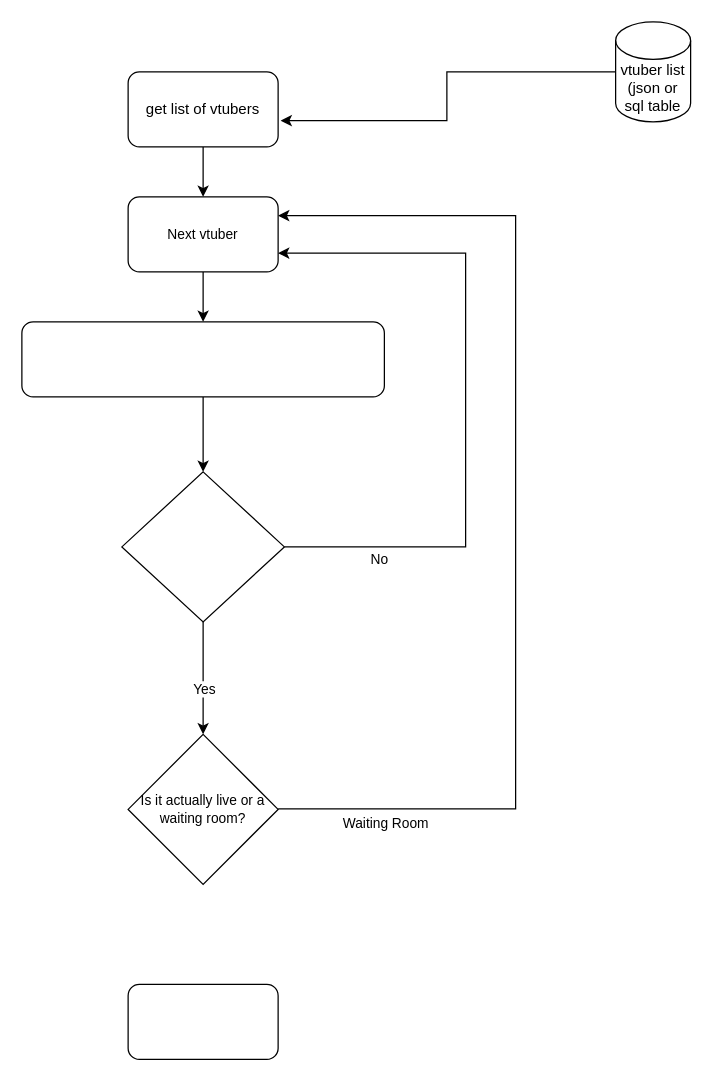
Image size: 713x1081. Some labels were removed from this diagram. The shapes that lost their labels are listed below. From the top down, each one's centre as x and y in pixels, then its label:
point 202,359: `https://youtube.com/channel/${ytUserId}/live`
point 202,546: Is the returned URL a video URL?
